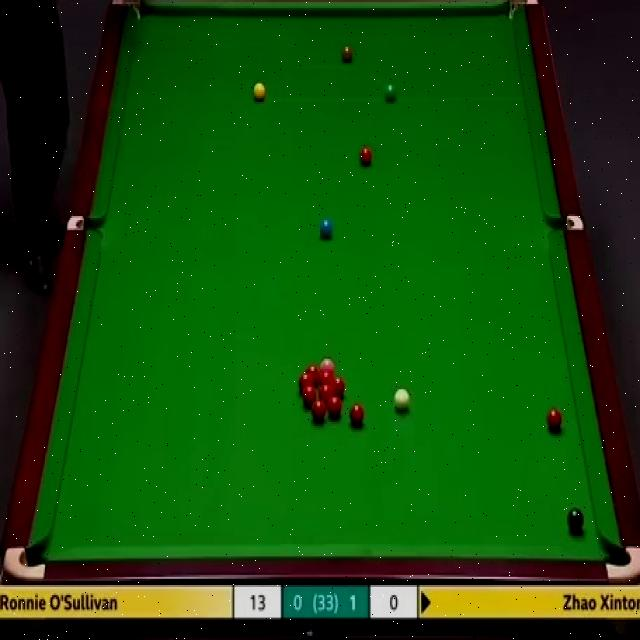black-ball: (566, 509, 584, 535)
blue-ball: (318, 216, 334, 240)
brown-ball: (341, 46, 354, 66)
green-ball: (383, 82, 398, 104)
pink-ball: (320, 358, 335, 369)
red-ball: (327, 396, 343, 420), (546, 408, 563, 430), (350, 406, 364, 428), (360, 147, 374, 168), (312, 399, 325, 421), (306, 366, 320, 386), (331, 377, 345, 396), (299, 373, 313, 392), (303, 389, 318, 406), (319, 383, 333, 398), (320, 368, 332, 384)
white-ball: (392, 390, 411, 416)
yellow-ball: (253, 81, 266, 101)
